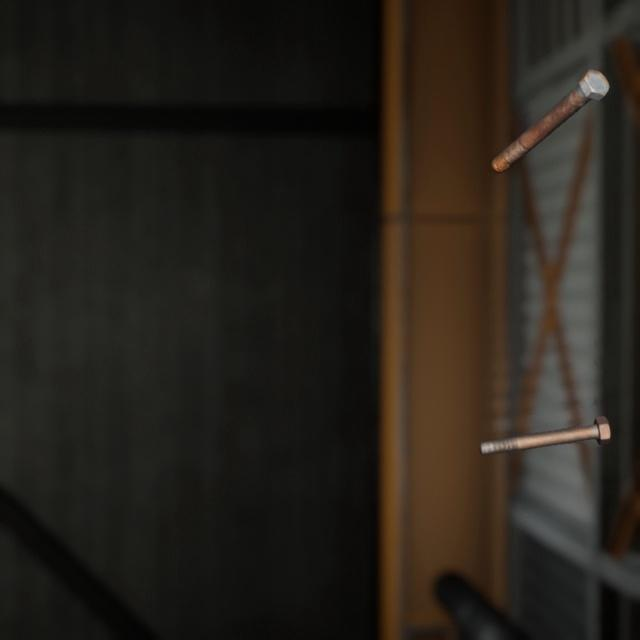bolt: (486, 51, 614, 165), (474, 391, 615, 439)
